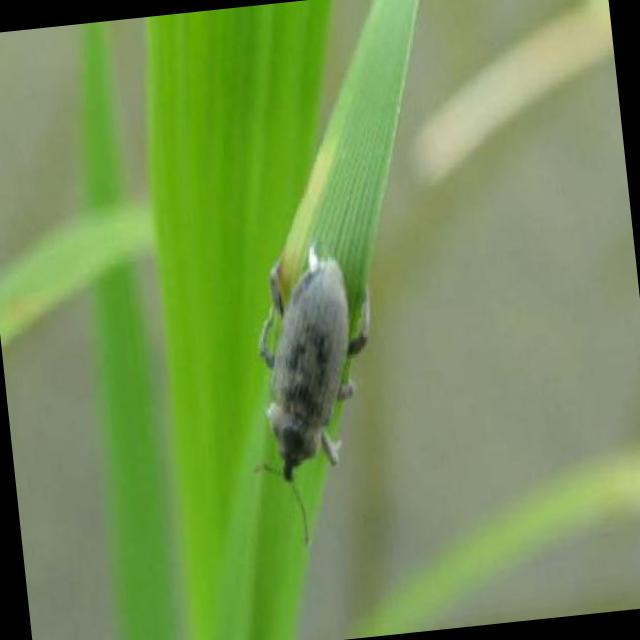rice-bug: (240, 240, 390, 460)
